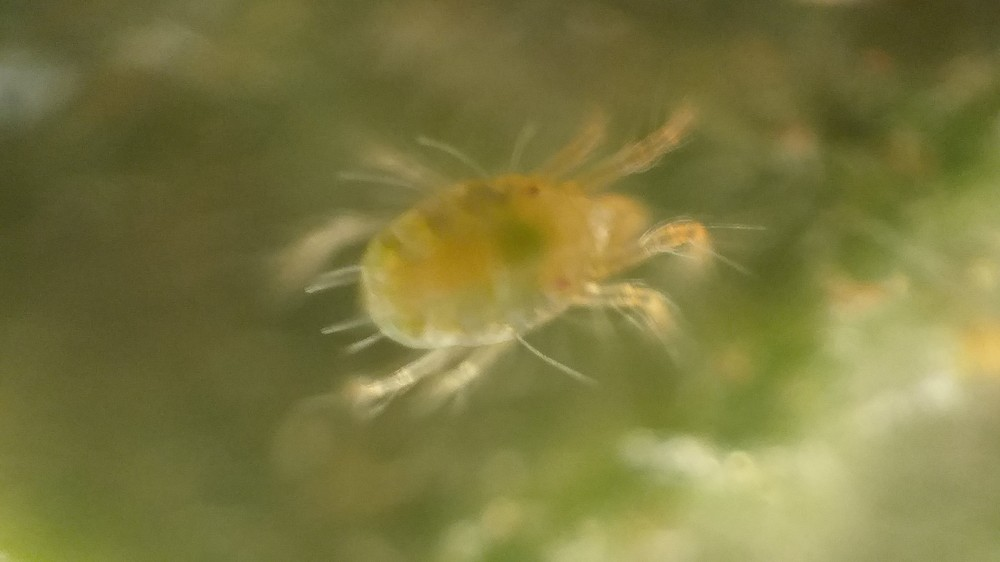Aracnido Rojo: (269, 93, 778, 444)
